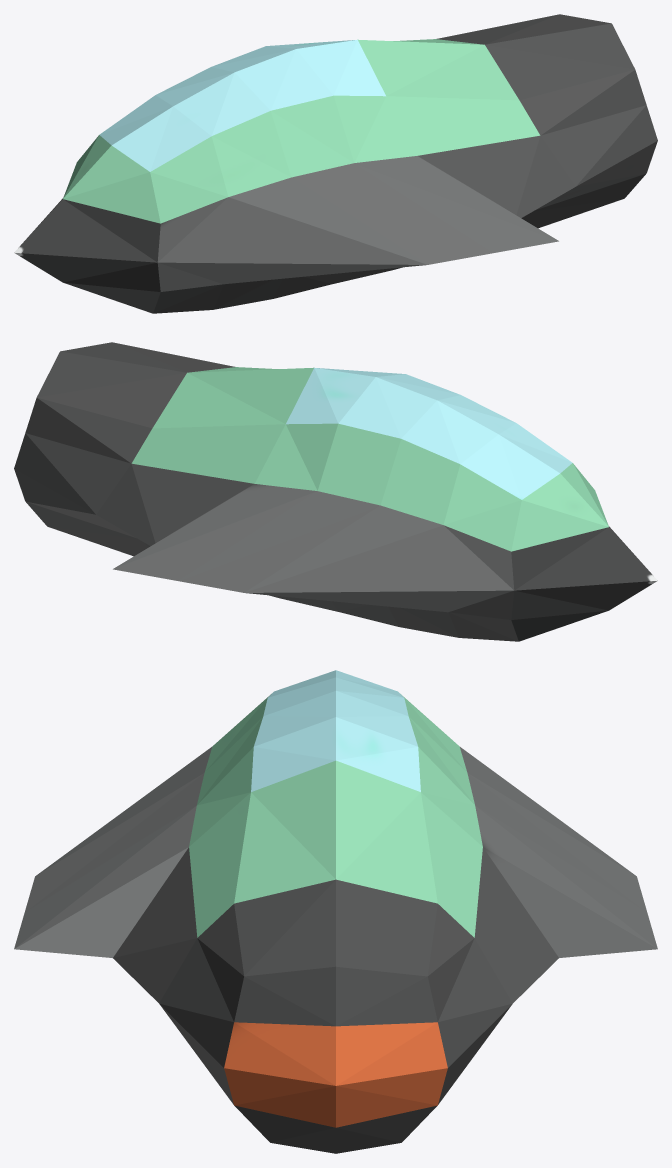
Rendered from Player.obj.
3 views of the same model, one above another, from view 1: azimuth 30°, elevation 25°; view 2: azimuth 150°, elevation 25°; view 3: azimuth 270°, elevation 25° (orthographic). The views are drawn at different scales.
Parts seen in each view (by area): view 1: Cube; view 2: Cube; view 3: Cube.
Boxes of the visible parts, bbox=[...] form: Cube: bbox=[14, 14, 657, 313]; Cube: bbox=[14, 342, 657, 641]; Cube: bbox=[14, 670, 657, 1153].
Bounding box in the file's own units: 4.8 × 1.67 × 3.51.
Materials: 1 (1 with a texture image).
